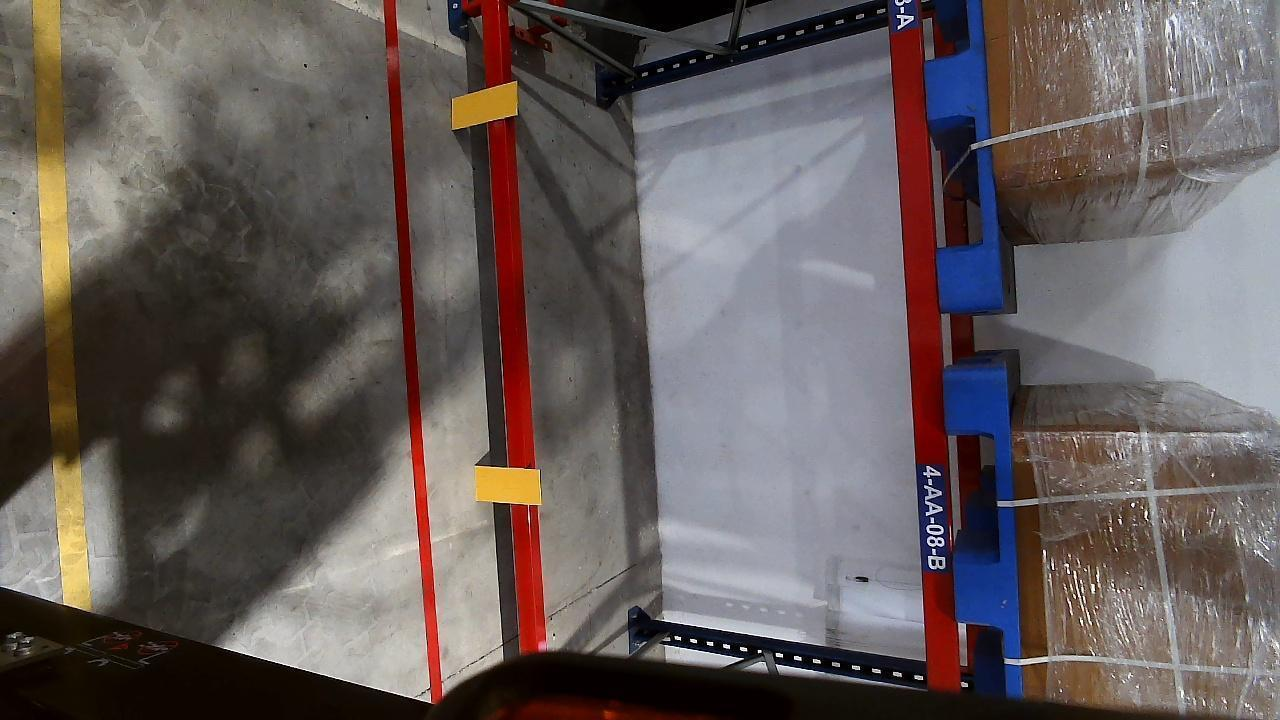red_line: (383, 0, 444, 699)
yellow_line: (35, 0, 91, 604)
